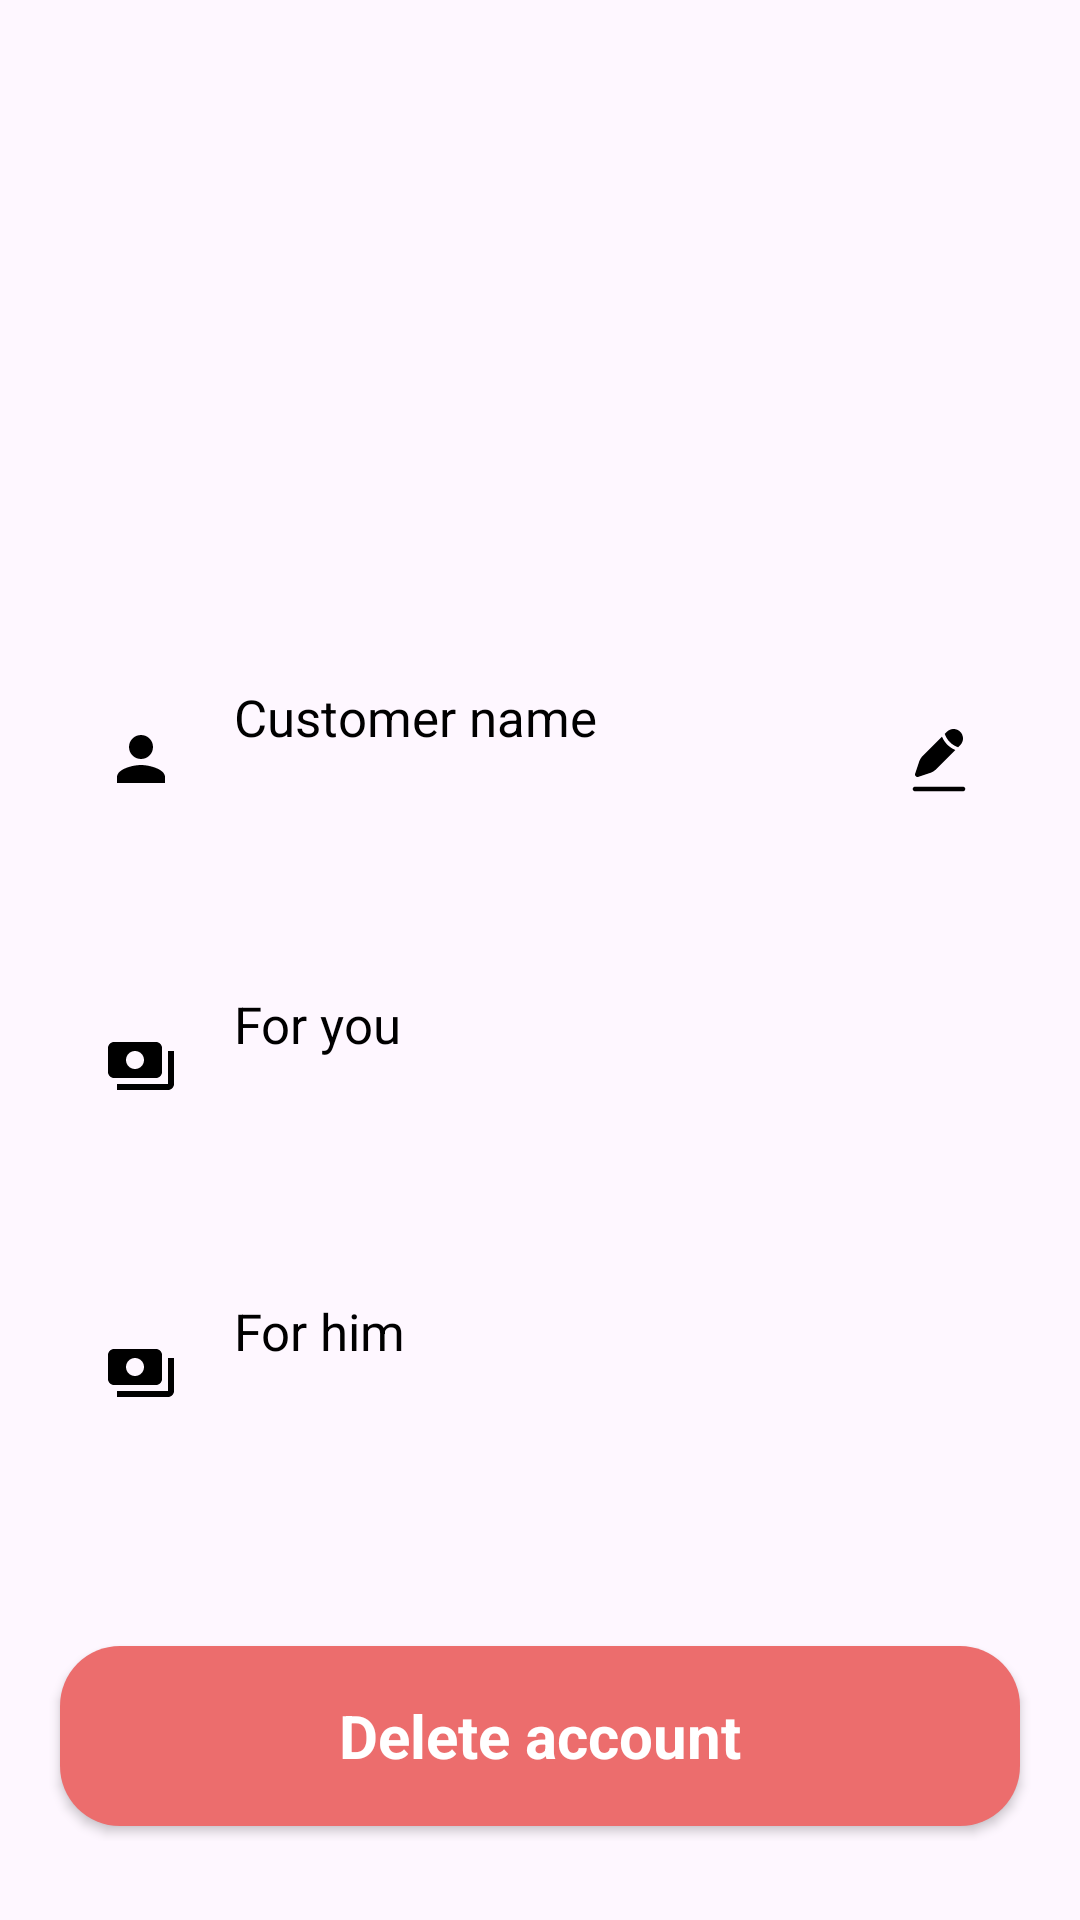

Screen size 1080*1920. Icon name, then its center in pixels as point (x, y):
payments: point (141, 1066), point (141, 1373)
pen: point (939, 760)
person: point (141, 759)
